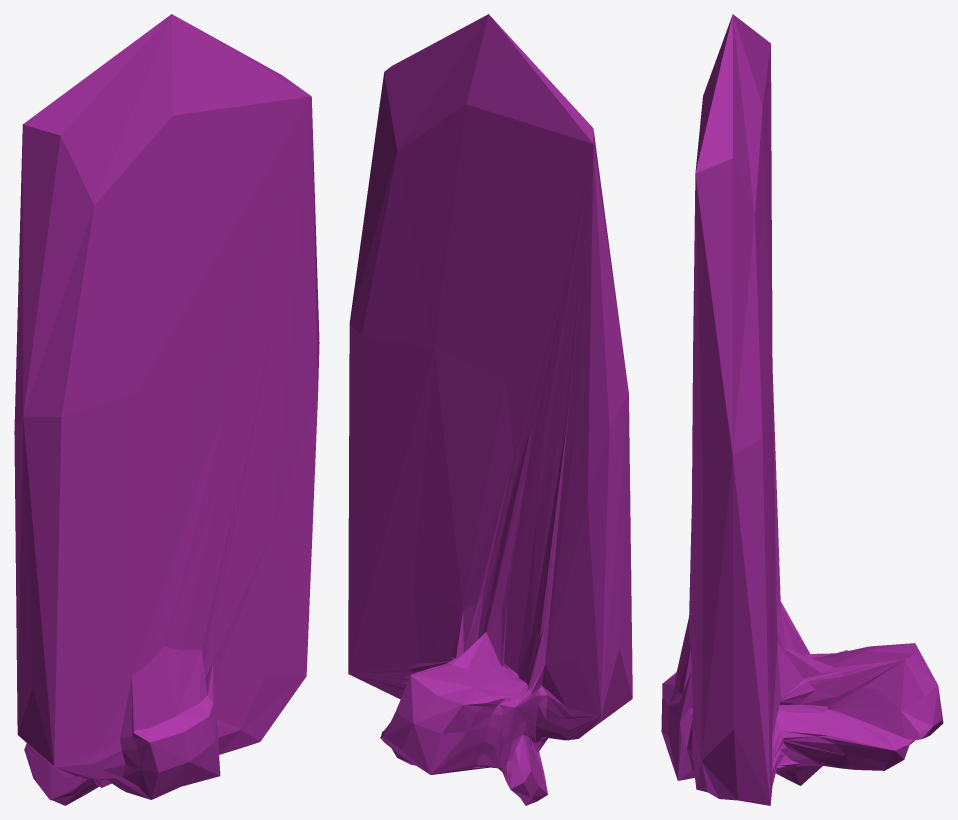
3 renders of one model, left to right at view 1: azimuth 30°, elevation 25°; view 2: azimuth 150°, elevation 25°; view 3: azimuth 270°, elevation 25°, orthographic. The views are drawn at different scales.
Visible parts, largest first — view 1: 141_Cube.586; view 2: 141_Cube.586; view 3: 141_Cube.586.
Part boxes in pixels (<box>): 141_Cube.586: <box>14,14,319,805</box>; 141_Cube.586: <box>348,14,632,805</box>; 141_Cube.586: <box>661,14,943,805</box>.
Bounding box in the file's own units: 5.07 × 13.07 × 4.13.
